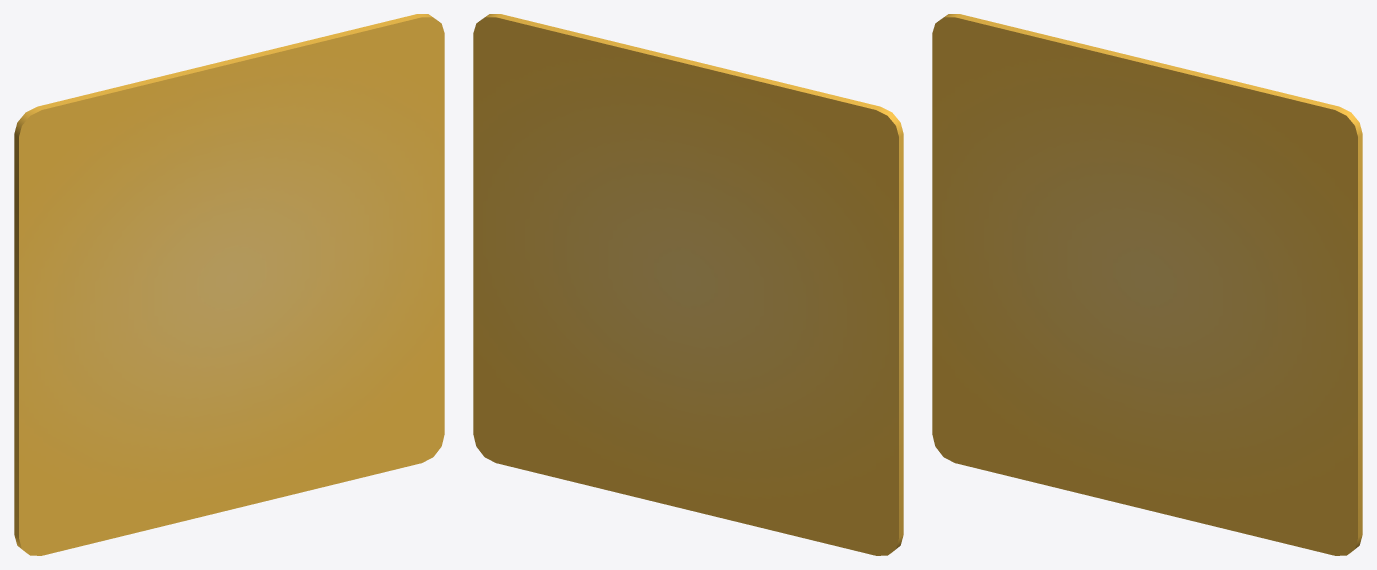
File: rarity_bg_unique.glb
3 views of the same model, side by side, from view 1: azimuth 30°, elevation 25°; view 2: azimuth 150°, elevation 25°; view 3: azimuth 330°, elevation 25° (orthographic).
Visible parts, largest first — view 1: rarity_bg_unique; view 2: rarity_bg_unique; view 3: rarity_bg_unique.
Part boxes in pixels (left/top/right/bottom): rarity_bg_unique: left=14, top=14, right=444, bottom=555; rarity_bg_unique: left=473, top=14, right=903, bottom=555; rarity_bg_unique: left=932, top=14, right=1362, bottom=555.
Size of the model in its own units: 1 by 1 by 0.0187.
Materials: 1 (1 with a texture image).
